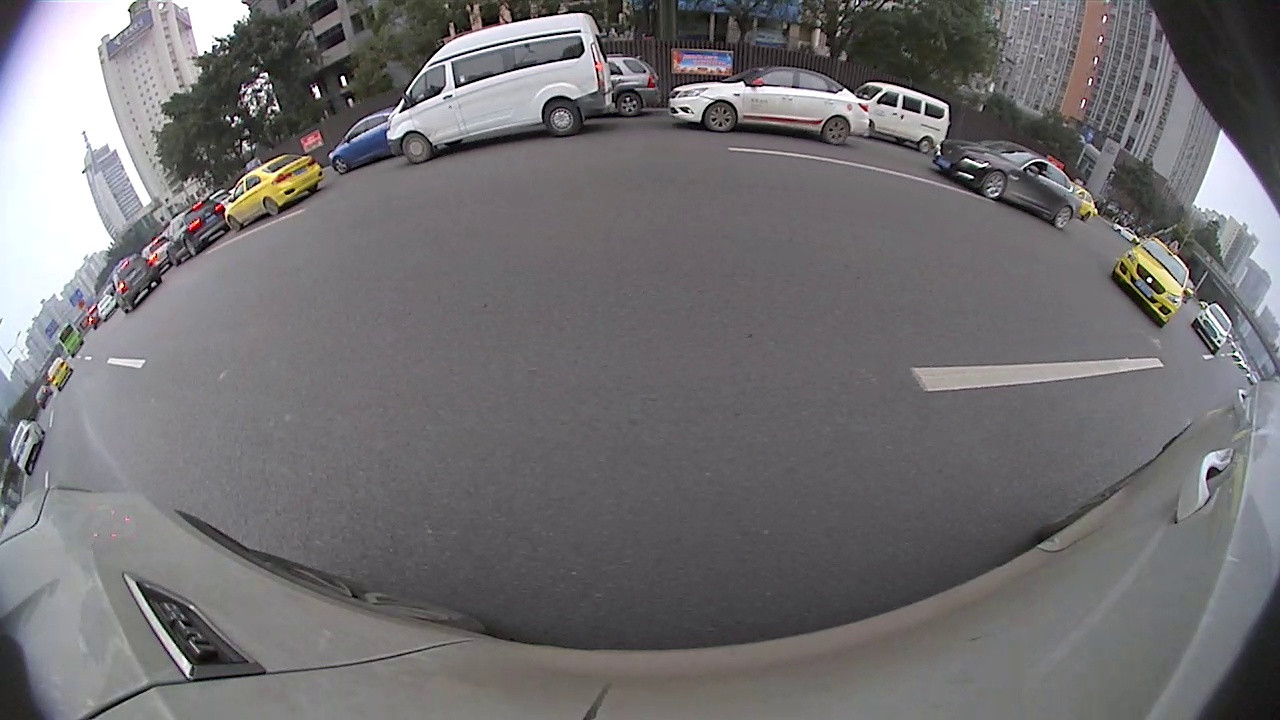car: (386, 11, 613, 168), (668, 66, 871, 146), (930, 138, 1074, 231), (224, 153, 325, 233), (1111, 236, 1192, 329), (855, 82, 951, 156), (327, 107, 399, 177), (165, 199, 228, 267), (607, 54, 662, 117), (110, 253, 162, 313), (8, 417, 46, 477), (1193, 301, 1233, 356), (45, 357, 76, 392)
front: (703, 102, 736, 132), (401, 135, 432, 161), (982, 172, 1004, 199), (333, 155, 348, 175), (231, 215, 241, 232)
rear: (546, 101, 581, 135), (824, 118, 850, 145), (616, 94, 642, 116), (261, 196, 281, 214), (1054, 209, 1070, 228), (184, 239, 196, 257), (919, 138, 933, 152)
